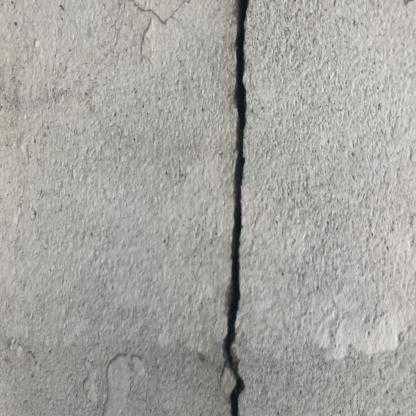crack: (222, 0, 250, 415)
